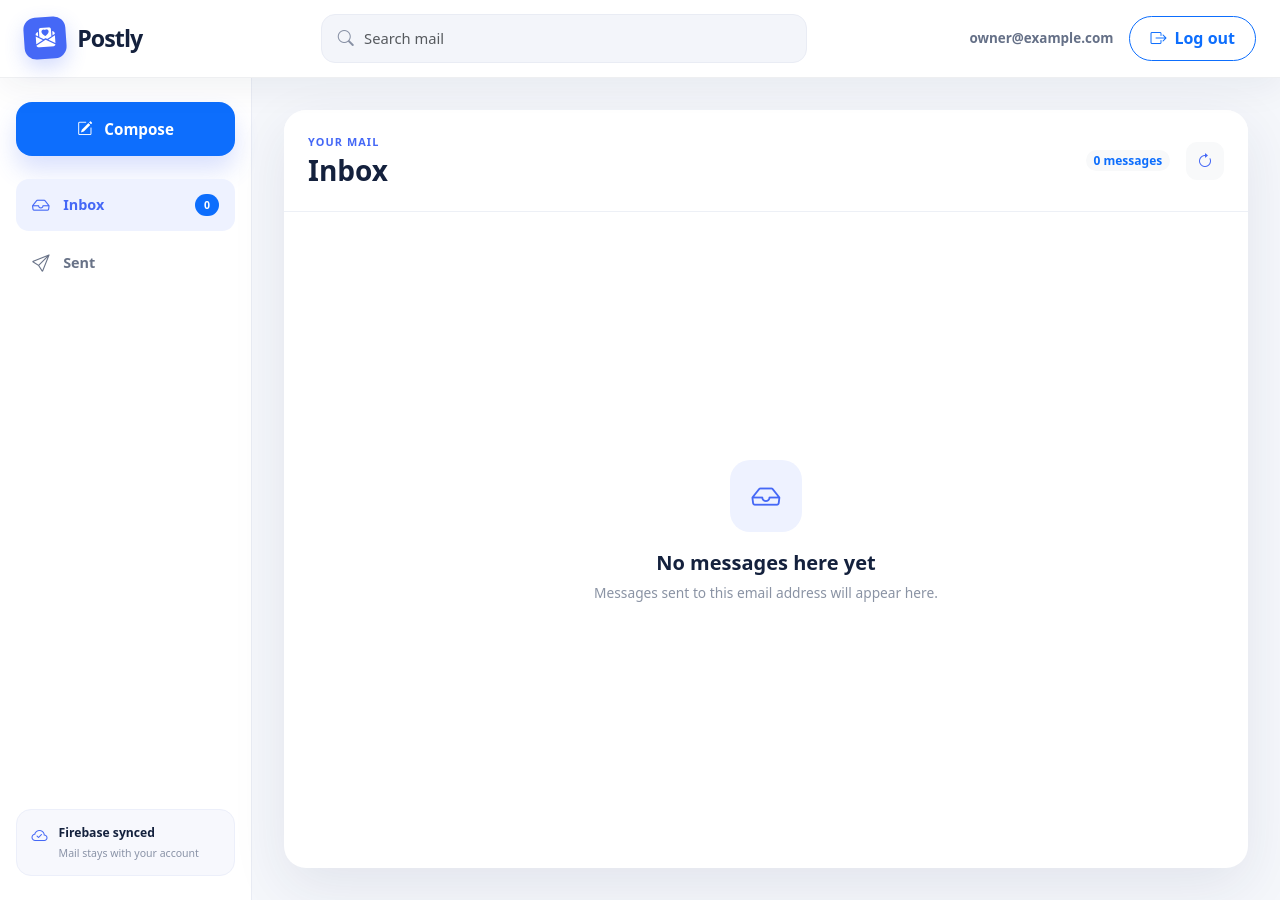
Test: Delete mail component › deletes only the authenticated user sent-mail copy from Sent
The width and height of the screenshot is (1280, 900).
expect the heading "No messages here yet" is shown: met, box [656,551,876,575]
Click the button "Sent". click: [126, 263]
box: [16,237,235,289]
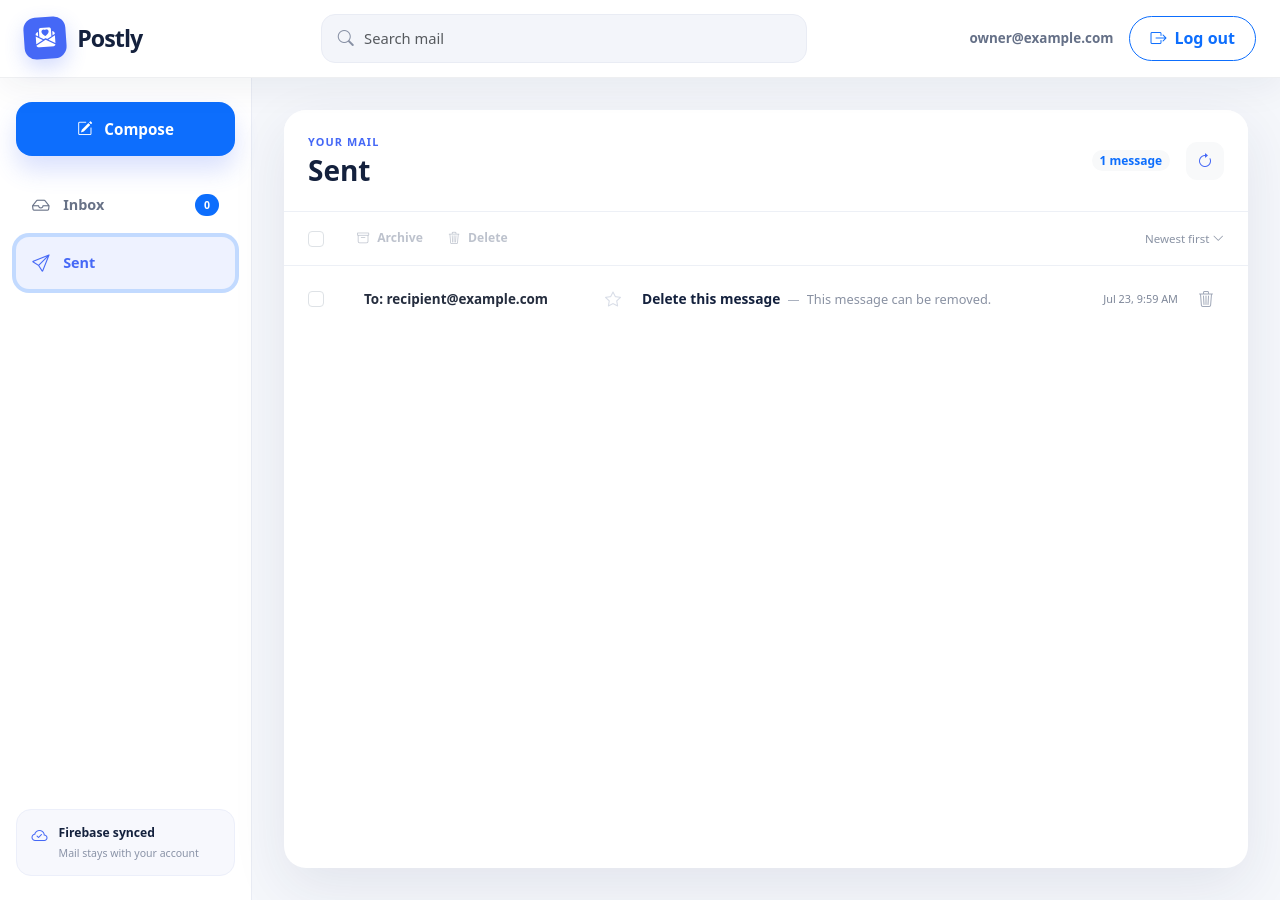
Click the button named "Delete message: Delete this message". click: [1206, 299]
box: [1190,283,1222,315]
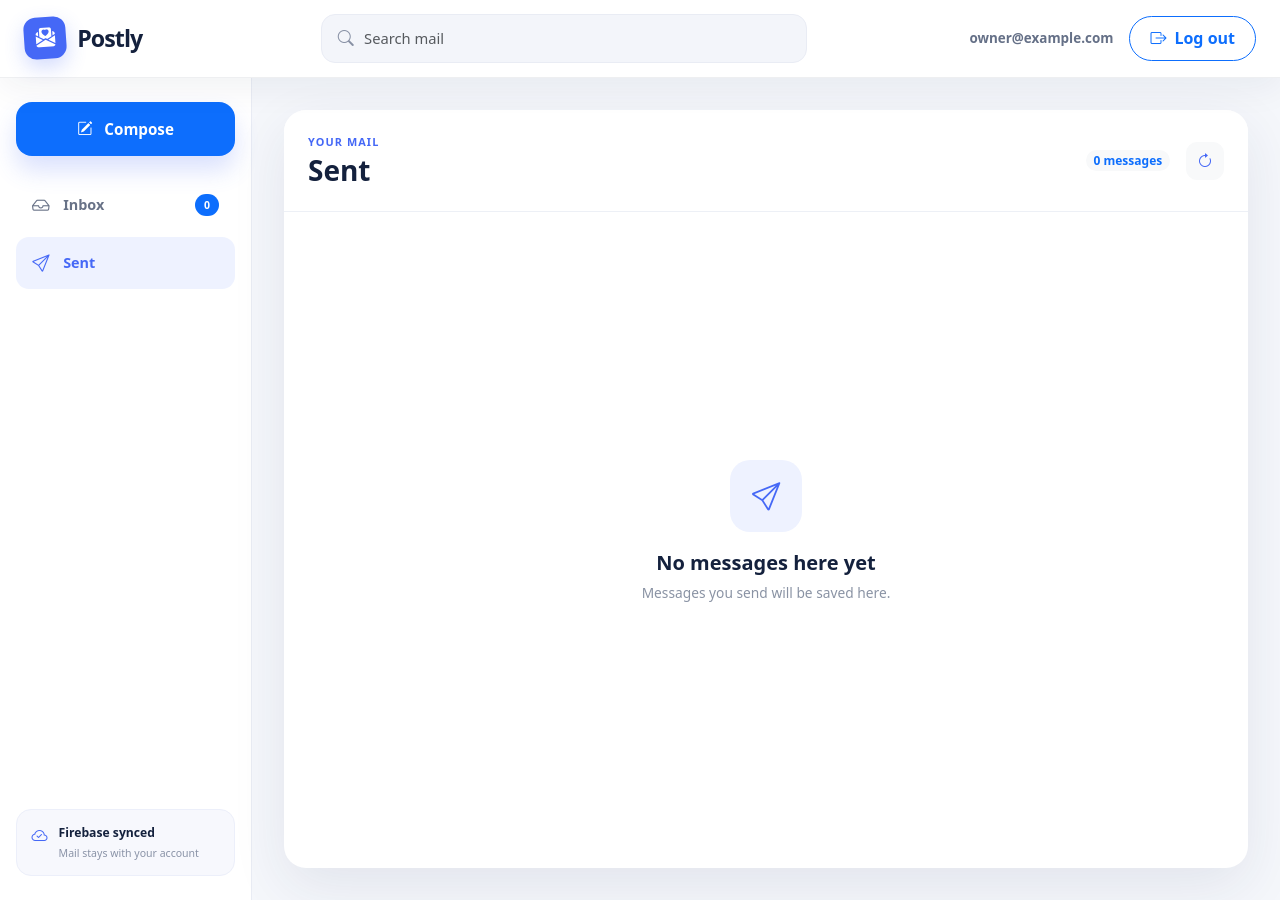
expect the heading "No messages here yet" is shown: met, box [656,551,876,575]
